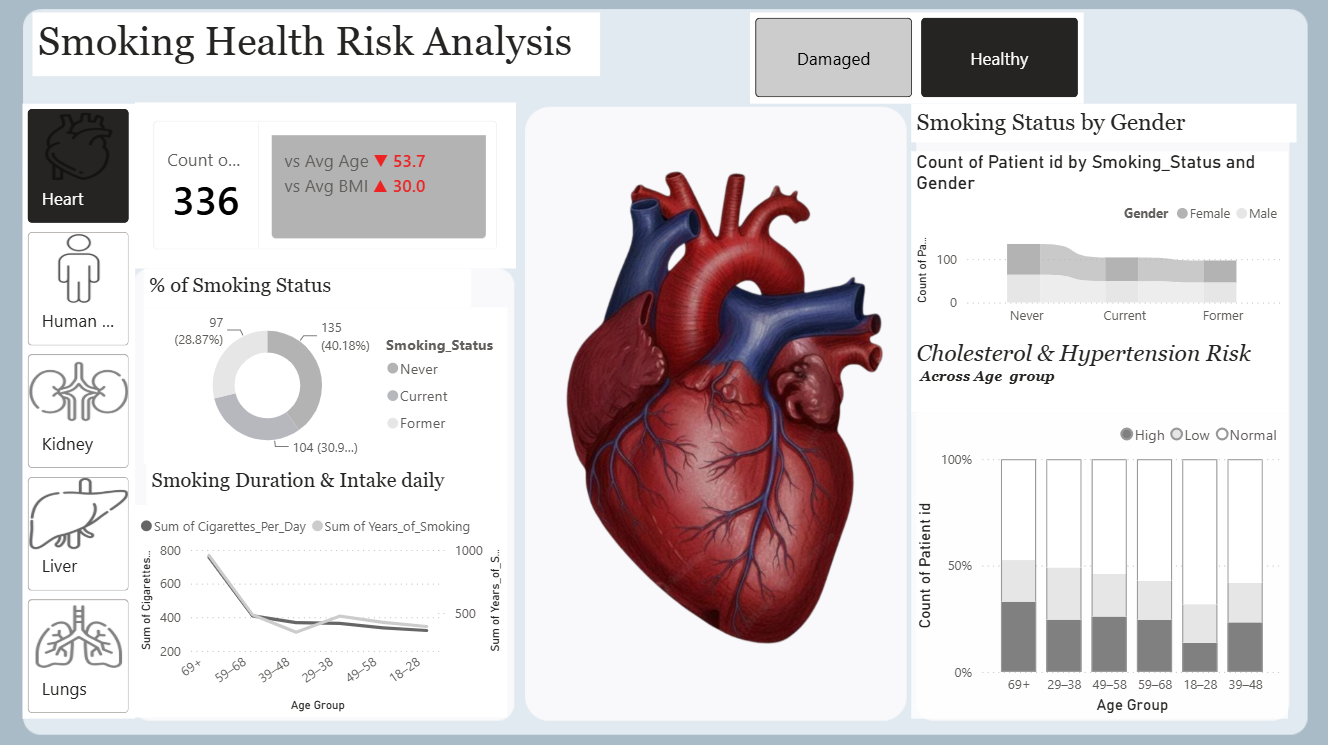

This screenshot's page, from the dashboard's own definition file:
{"tool":"powerbi","page":{"name":"Page 1","canvas":[1280,720],"ordinal":0},"visuals":[{"type":"textbox","box":[48.8,20.9,527.9,59.3],"z":0},{"type":"ribbonChart","fields":{"Category":["health_dataset.Smoking_Status"],"Y":["CountNonNull(health_dataset.Patient_ID)"],"Series":["health_dataset.Gender"]},"box":[866.3,150,350,170.9],"z":1000},{"type":"donutChart","fields":{"Y":["CountNonNull(health_dataset.Patient_ID)"],"Category":["health_dataset.Smoking_Status"]},"box":[152.3,295.3,338.4,145.3],"z":2000},{"type":"lineChart","fields":{"Y2":["Sum(health_dataset.Years_of_Smoking)"],"Y":["Sum(health_dataset.Cigarettes_Per_Day)"],"Category":["health_dataset.Age Group"]},"box":[144.2,479.1,346.5,197.7],"z":3000},{"type":"textbox","box":[152.5,258.8,305,36.2],"z":4000},{"type":"textbox","box":[866.3,105.8,358.1,36],"z":6000},{"type":"textbox","box":[866.3,320.9,350,72.1],"z":7000},{"type":"hundredPercentStackedColumnChart","fields":{"Category":["health_dataset.Age Group"],"Y":["CountNonNull(health_dataset.Patient_ID)"],"Series":["health_dataset.BP_Risk"]},"box":[866.2,392.5,350,285],"z":8000},{"type":"textbox","box":[154.7,440.7,336,38.4],"z":9000},{"type":"advancedSlicerVisual","fields":{"Values":["Organs.Organ"]},"box":[39.5,105.8,104.7,572.1],"z":10000},{"type":"image","box":[514,101.2,352.3,575.6],"z":11000},{"type":"cardVisual","fields":{"Data":["CountNonNull(health_dataset.Patient_ID)"]},"box":[144.4,104.4,354.4,154.4],"z":12000},{"type":"advancedSlicerVisual","fields":{"Values":["health_dataset.Organ_Condition"]},"box":[716.3,20.9,310.5,84.9],"z":13000}]}

Visuals, with their boxes in screenshot pixels (x1, y1, x2, y2), scaled from the page's 1280x720 canvas onto the 1328x745 screenshot:
textbox: (51,22,598,83)
ribbonChart - health_dataset.Smoking_Status x CountNonNull(health_dataset.Patient_ID): (899,155,1262,332)
donutChart - CountNonNull(health_dataset.Patient_ID) x health_dataset.Smoking_Status: (158,306,509,456)
lineChart - Sum(health_dataset.Years_of_Smoking) x Sum(health_dataset.Cigarettes_Per_Day): (150,496,509,700)
textbox: (158,268,475,305)
textbox: (899,109,1270,147)
textbox: (899,332,1262,407)
hundredPercentStackedColumnChart - health_dataset.Age Group x CountNonNull(health_dataset.Patient_ID): (899,406,1262,701)
textbox: (161,456,509,496)
advancedSlicerVisual - Organs.Organ: (41,109,150,701)
image: (533,105,899,700)
cardVisual - CountNonNull(health_dataset.Patient_ID): (150,108,518,268)
advancedSlicerVisual - health_dataset.Organ_Condition: (743,22,1065,109)
